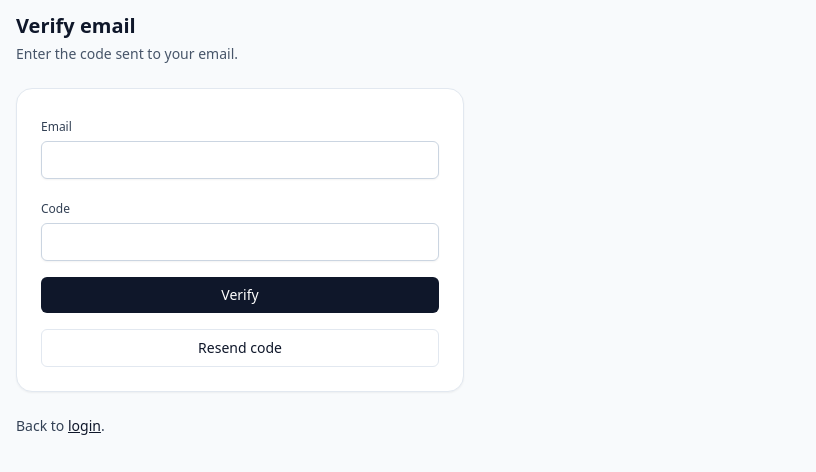
Test: VerifyEmailPage › validates email before resending and shows a toast on success
Type "not-an-email" into the field labelled "Email".
click(240, 160); type("not-an-email")  # box [41,141,439,179]
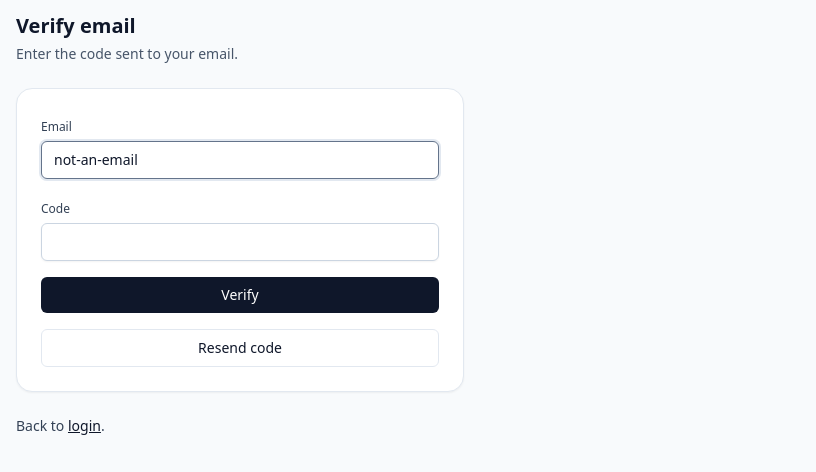
Click the button "Resend code".
click(240, 348)  # box [41,329,439,367]
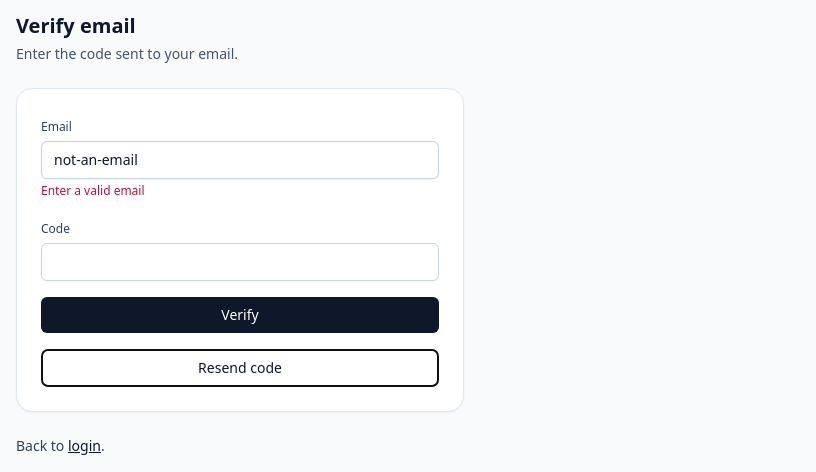
Expected: the text "Enter a valid email" is shown, [41,182,145,199]
Replace the text in the field labelled "Email" with "user@example.com" at {"x": 240, "y": 160}, box [41,141,439,179]
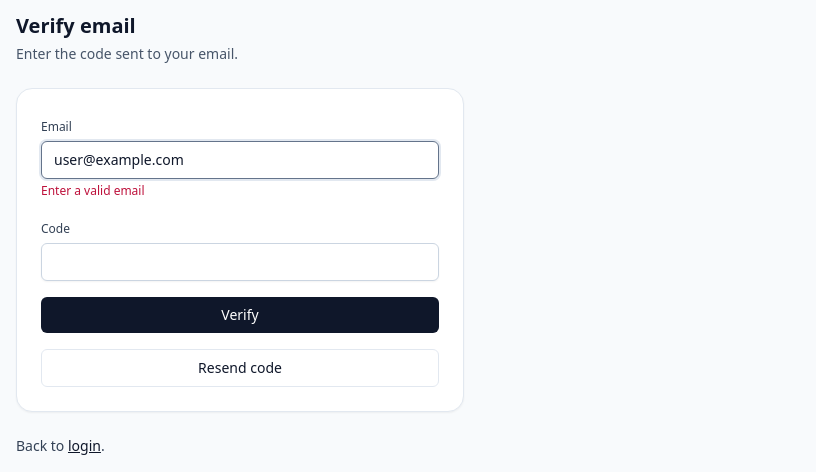
Click the button "Resend code".
click(240, 368)  # box [41,349,439,387]
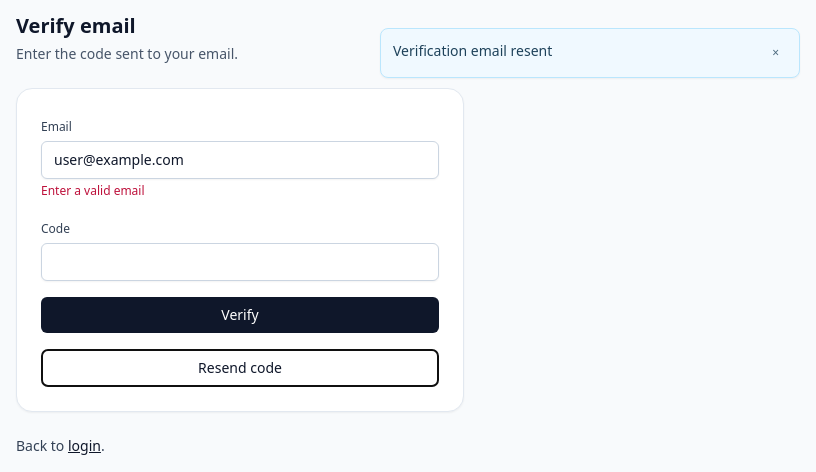
Expected: the text "Verification email resent" is shown, [393,41,552,60]
